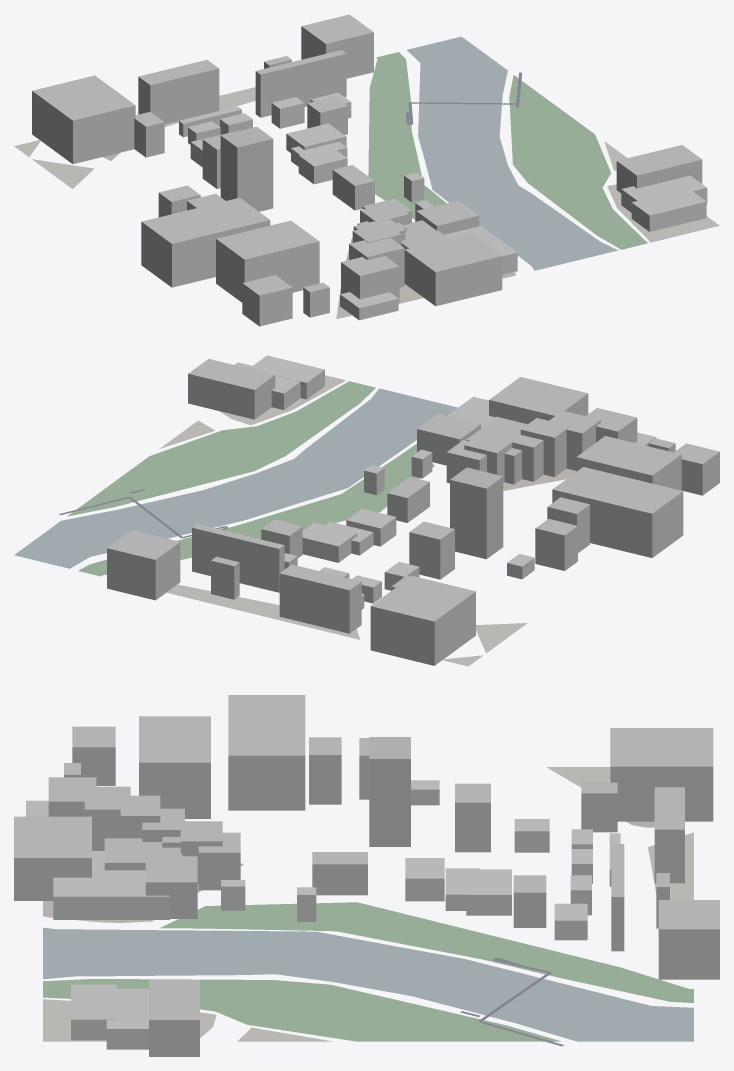
The model's file is 123_90_mid.glb.
3 views of the same model, one above another, from view 1: azimuth 30°, elevation 25°; view 2: azimuth 150°, elevation 25°; view 3: azimuth 270°, elevation 25° (orthographic). The views are drawn at different scales.
Size of the model in its own units: 558 by 74.77 by 542.
